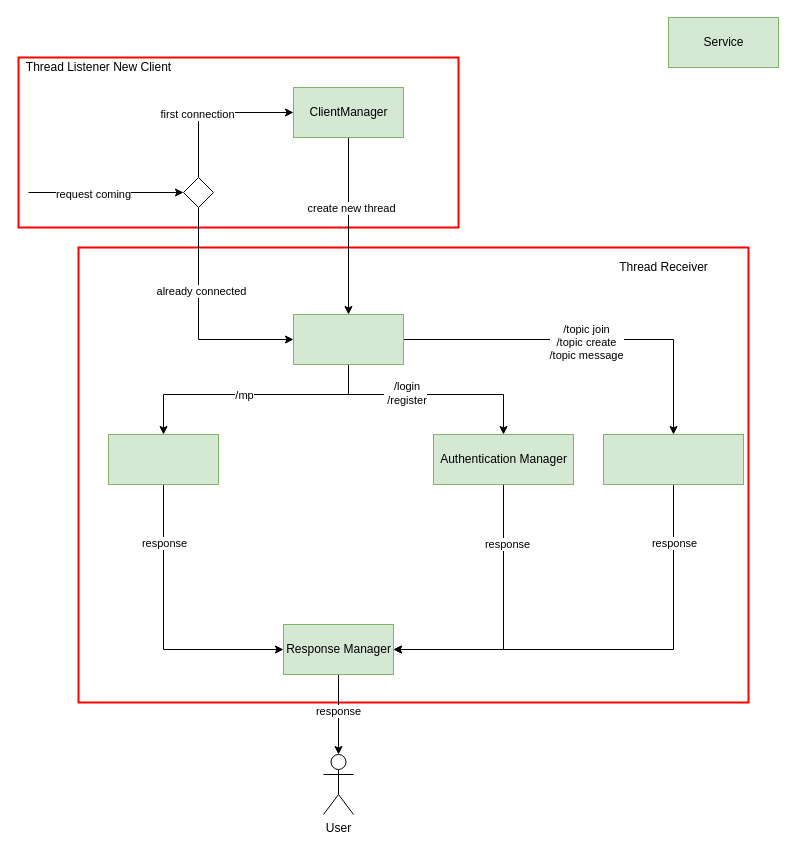
Some shapes in this 796 by 853 pixel diagram are drawn without their labels. Here are the shapes that lost their labels. From the top down, the centre of each, then its label:
At [348,339]: "Listener Request".
At [163,459]: "Manage Manager".
At [673,459]: "Topic Manager".
